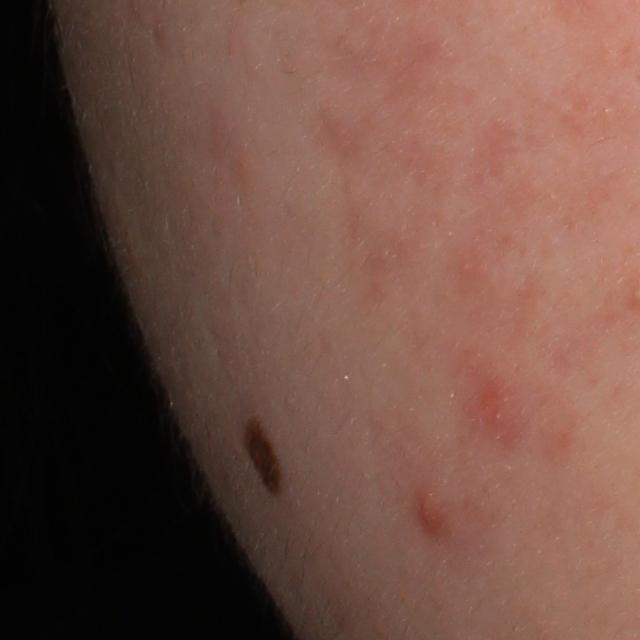nevus: (238, 410, 289, 505)
papule: (411, 483, 453, 544)
